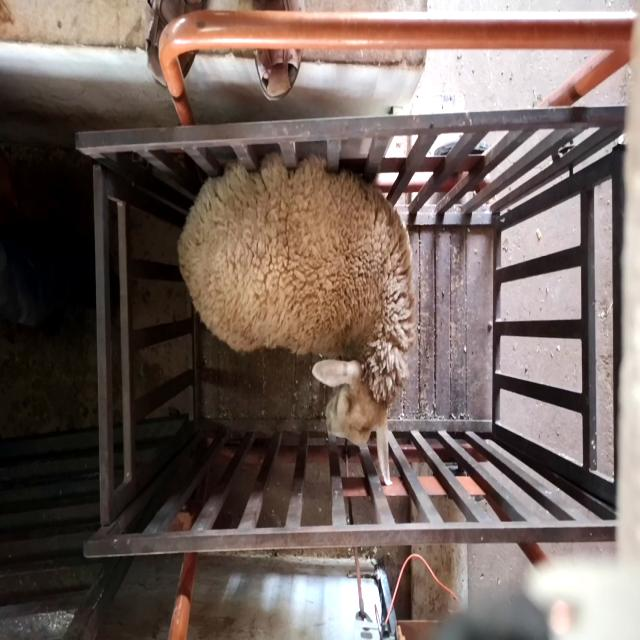sheep: (176, 153, 415, 485)
